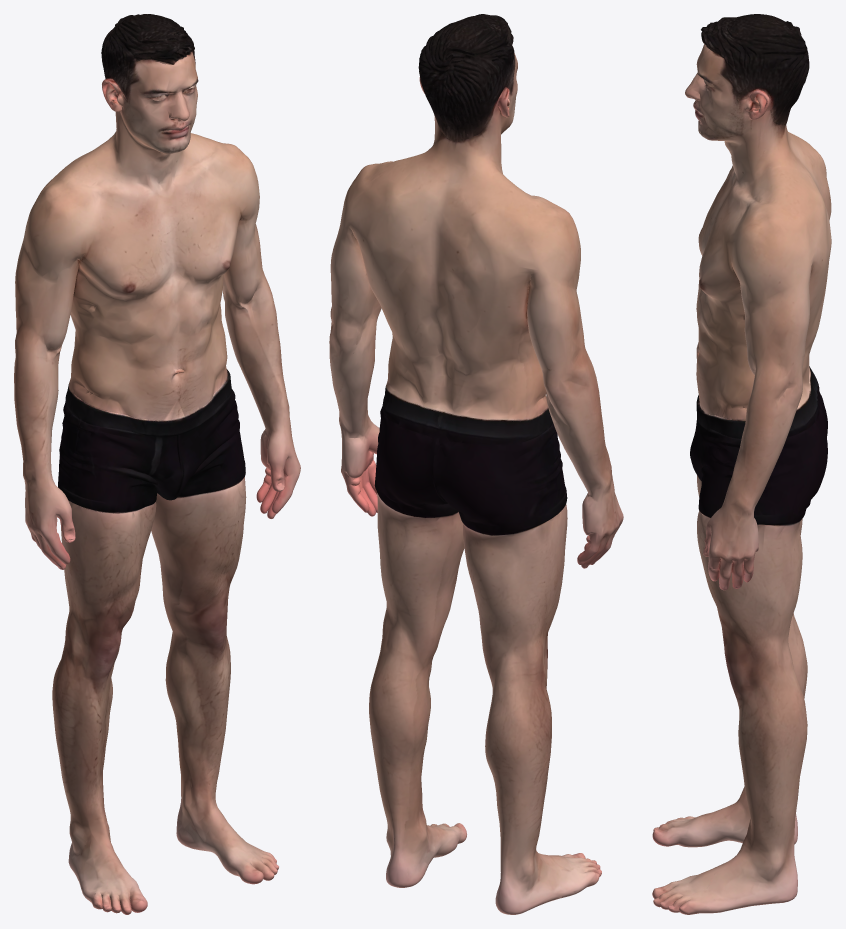
File: male.glb
The picture shows the model from 3 angles, left to right: view 1: azimuth 30°, elevation 25°; view 2: azimuth 150°, elevation 25°; view 3: azimuth 270°, elevation 25°; orthographic projection. The views are drawn at different scales.
Parts seen in each view (by area): view 1: model; view 2: model; view 3: model.
Boxes of the visible parts, x1,y1,x2,y2 form: model: [14, 14, 300, 914]; model: [329, 14, 623, 914]; model: [652, 14, 831, 914].
Bounding box in the file's own units: 0.5863 × 1.8 × 0.3419.
Materials: 1 (1 with a texture image).
